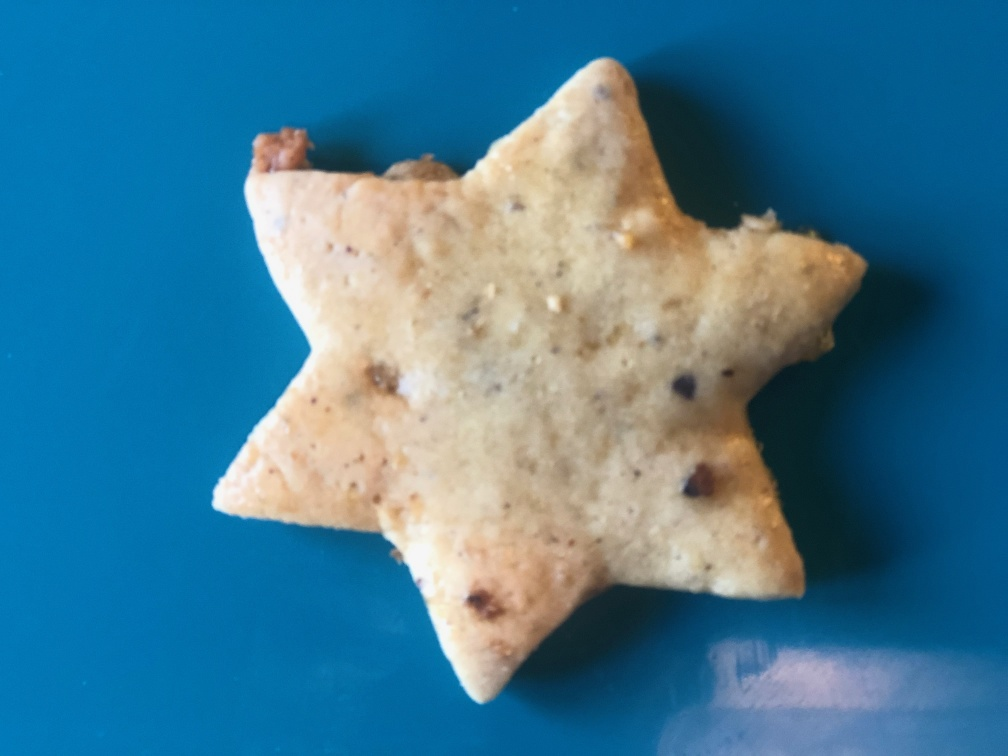star: (206, 55, 867, 708)
